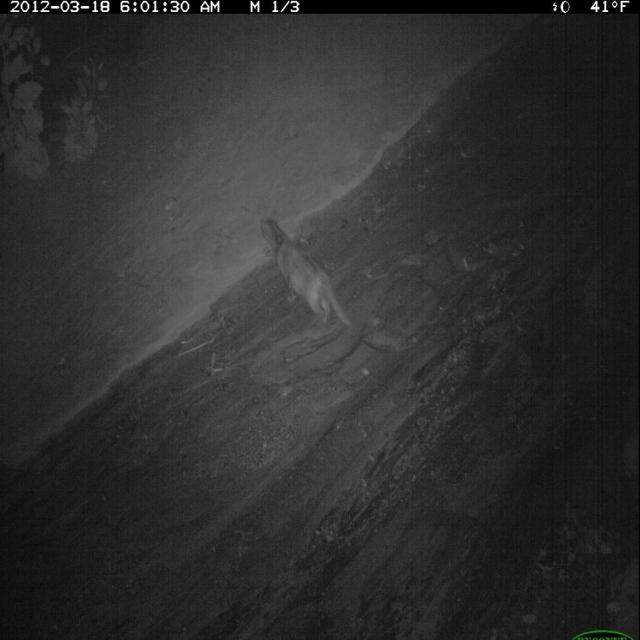cat: (257, 212, 362, 337)
